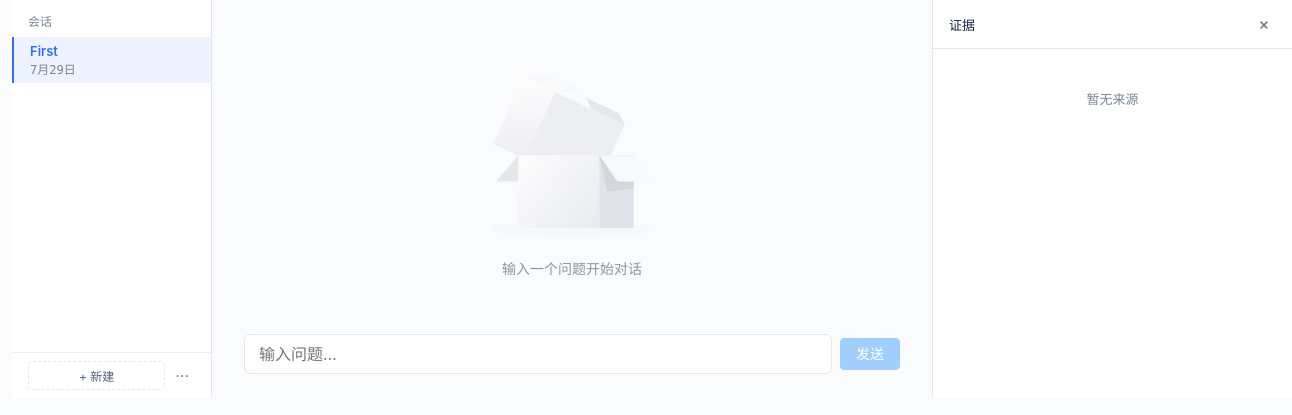
ConversationView › streams an answer through retrieval, tokens, and completed state
Type "How does it work?" into the field named "你的问题" at (538, 354), box [244, 334, 832, 374]
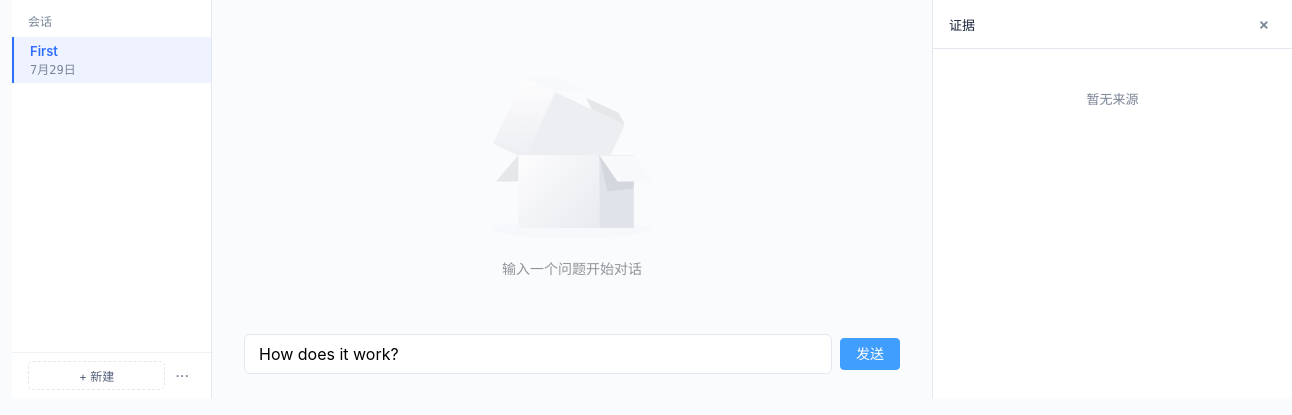
Submit the form with test id "conversation-composer", box [244, 318, 900, 374]
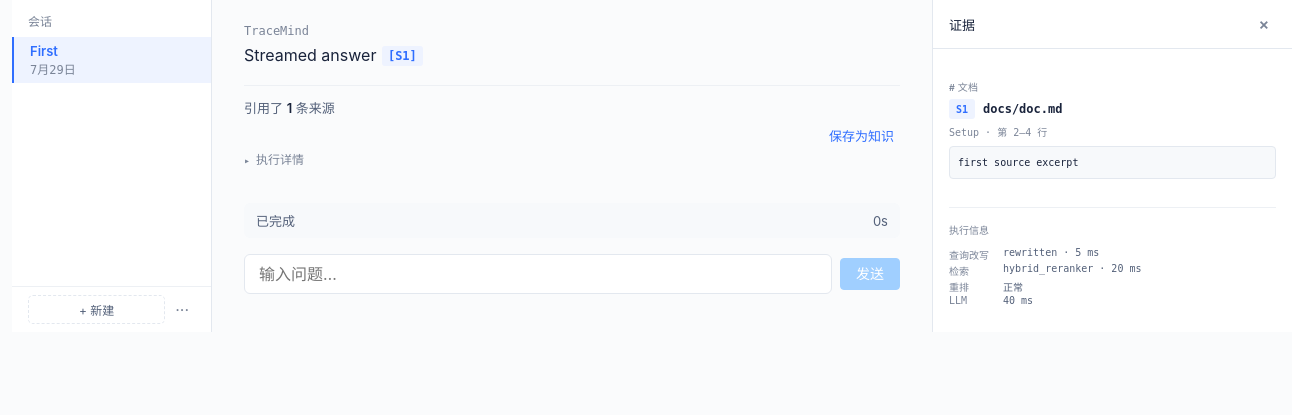
Expected: the text "Streamed answer" is shown, [244, 45, 381, 65]
Expected: the text "已完成" is shown, [256, 211, 295, 230]
Expected: the element with test id "evidence-source-assistant-stream-S1" shows "first source excerpt", [958, 157, 1078, 168]
